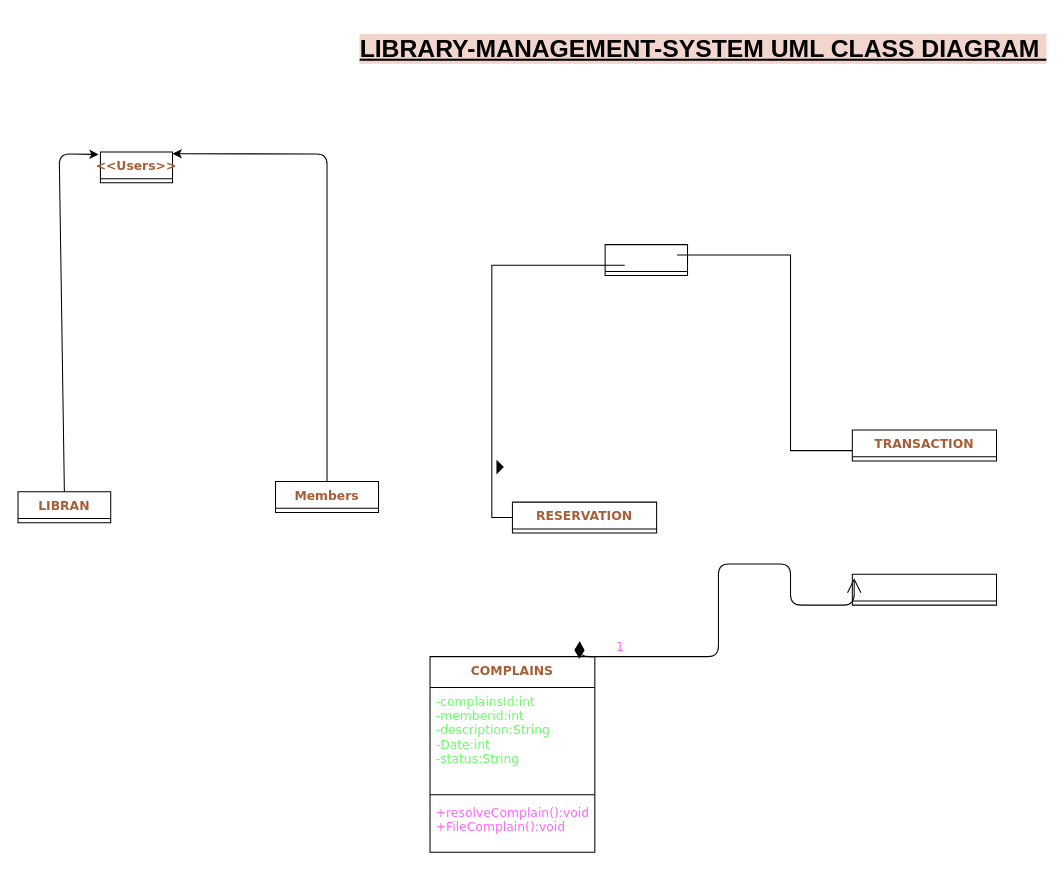
This 1064x872 diagram has some shape labels left out. Here are the shapes that lost their labels. From the top down, the centre of each, then its label:
the point at 646,260: BOOK
the point at 924,589: NOTIFICATION
